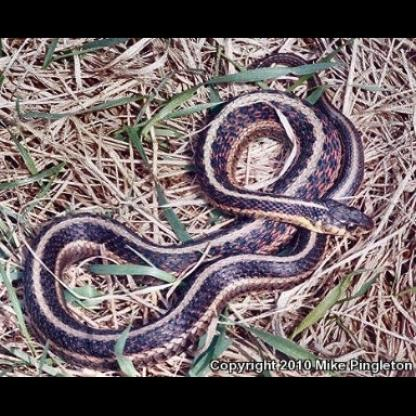Snake: (12, 91, 374, 369)
